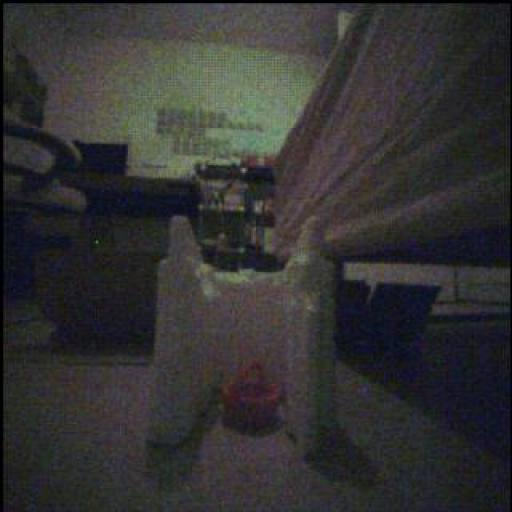basket: (224, 363, 283, 433)
